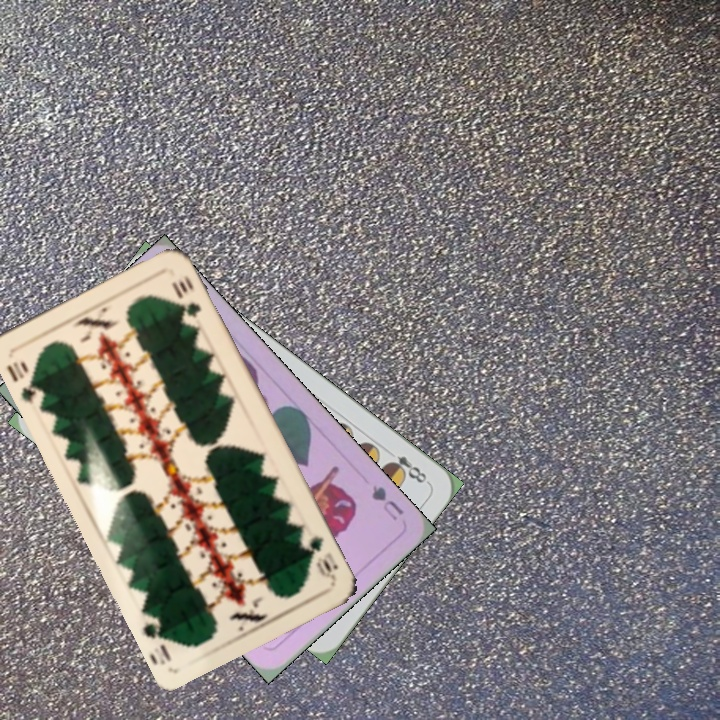E8: (383, 451, 432, 486)
G10: (2, 357, 48, 406), (303, 532, 341, 582)
GU: (367, 481, 406, 524)
